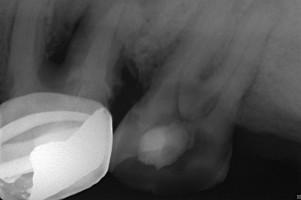Dental Caries: (121, 0, 245, 93), (45, 0, 96, 66), (198, 32, 237, 80)
